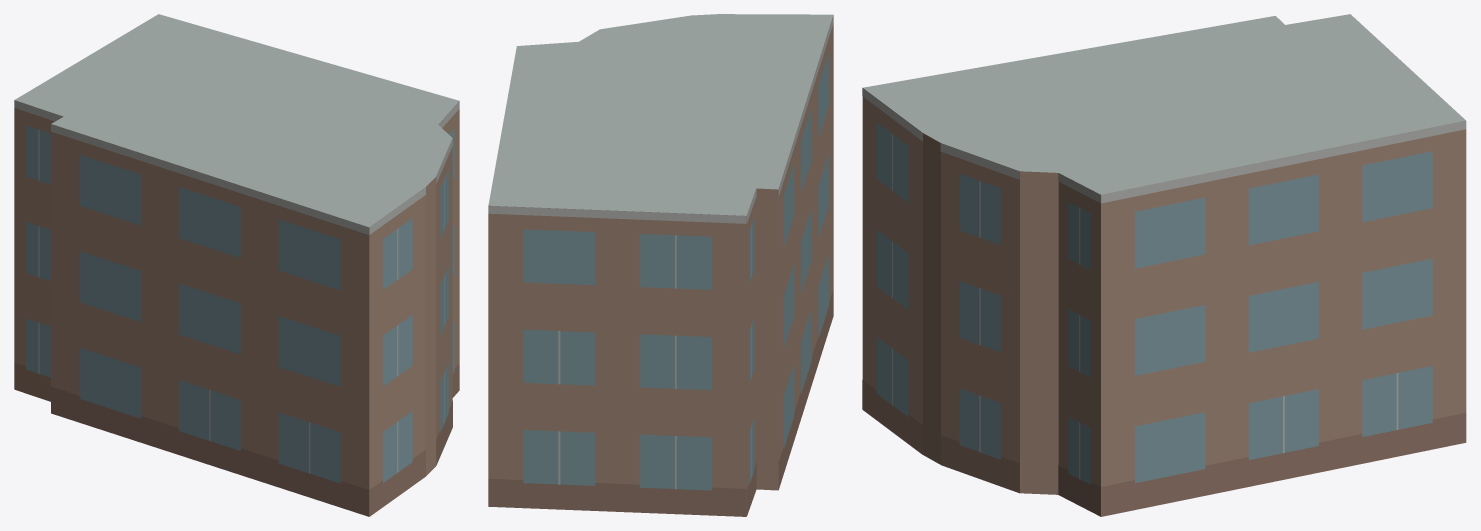
Rendered from survey-upis-32907202.glb.
3 views of the same model, side by side, from view 1: azimuth 30°, elevation 25°; view 2: azimuth 150°, elevation 25°; view 3: azimuth 270°, elevation 25° (orthographic). The views are drawn at different scales.
Parts seen in each view (by area): view 1: survey-upis-32907202.tmp; view 2: survey-upis-32907202.tmp; view 3: survey-upis-32907202.tmp.
Boxes of the visible parts, <box> form: survey-upis-32907202.tmp: <box>14,14,459,516</box>; survey-upis-32907202.tmp: <box>488,14,833,516</box>; survey-upis-32907202.tmp: <box>862,14,1466,516</box>.
Size of the model in its own units: 11.03 by 9.15 by 15.56.
